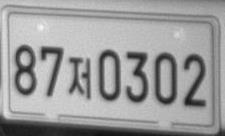0: (97, 48, 121, 102), (153, 51, 177, 104)
2: (183, 53, 207, 106)
3: (125, 50, 148, 103)
7: (39, 45, 65, 97)
8: (13, 43, 37, 96)
저: (68, 56, 91, 99)
